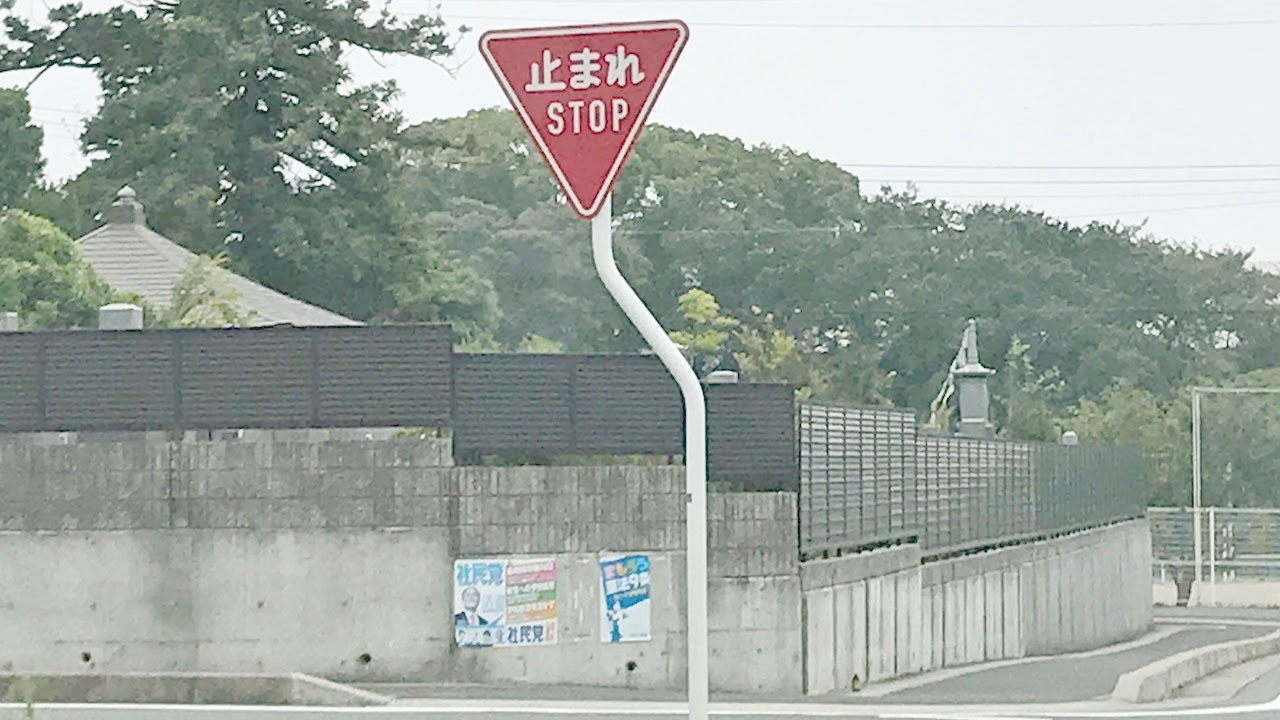Regulatory_sign_triangle: (473, 12, 693, 217)
